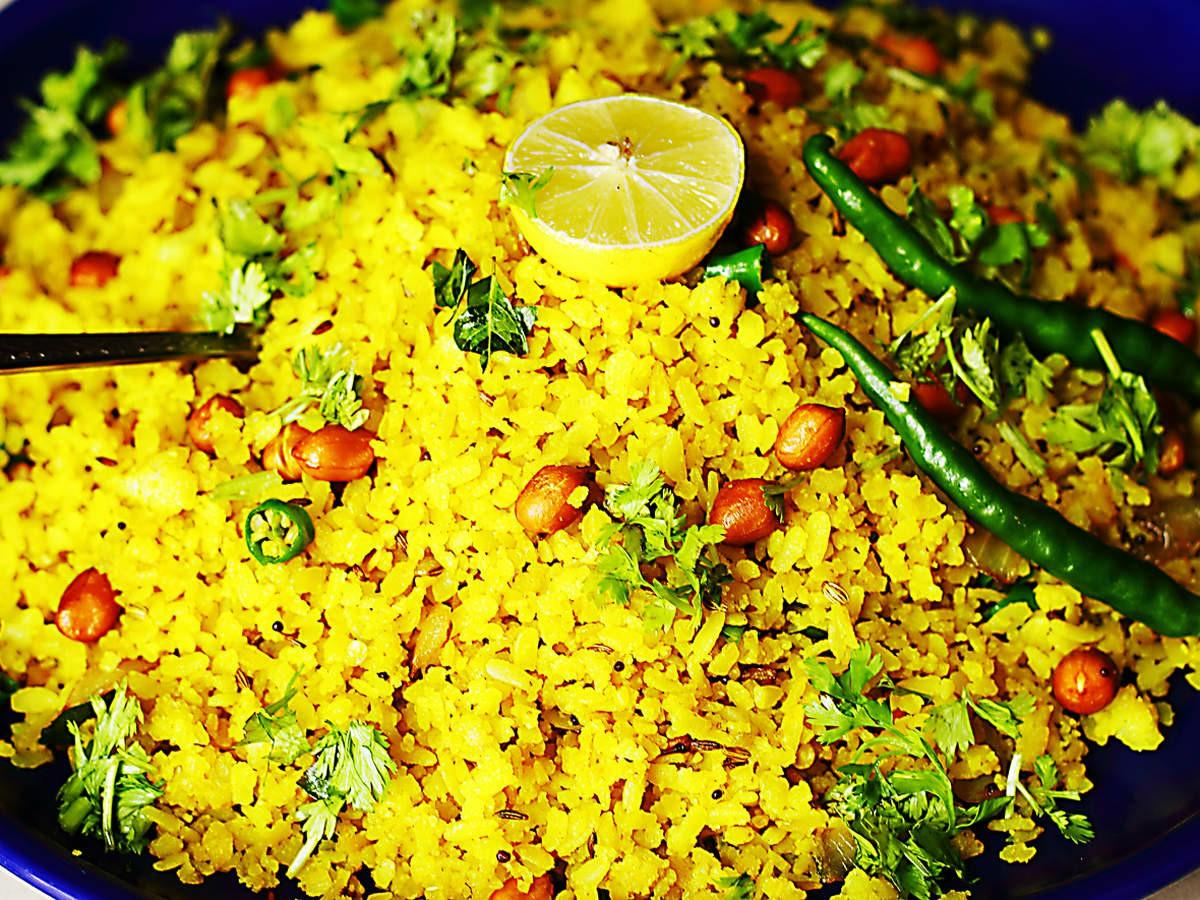Poha: (0, 12, 1200, 900)
